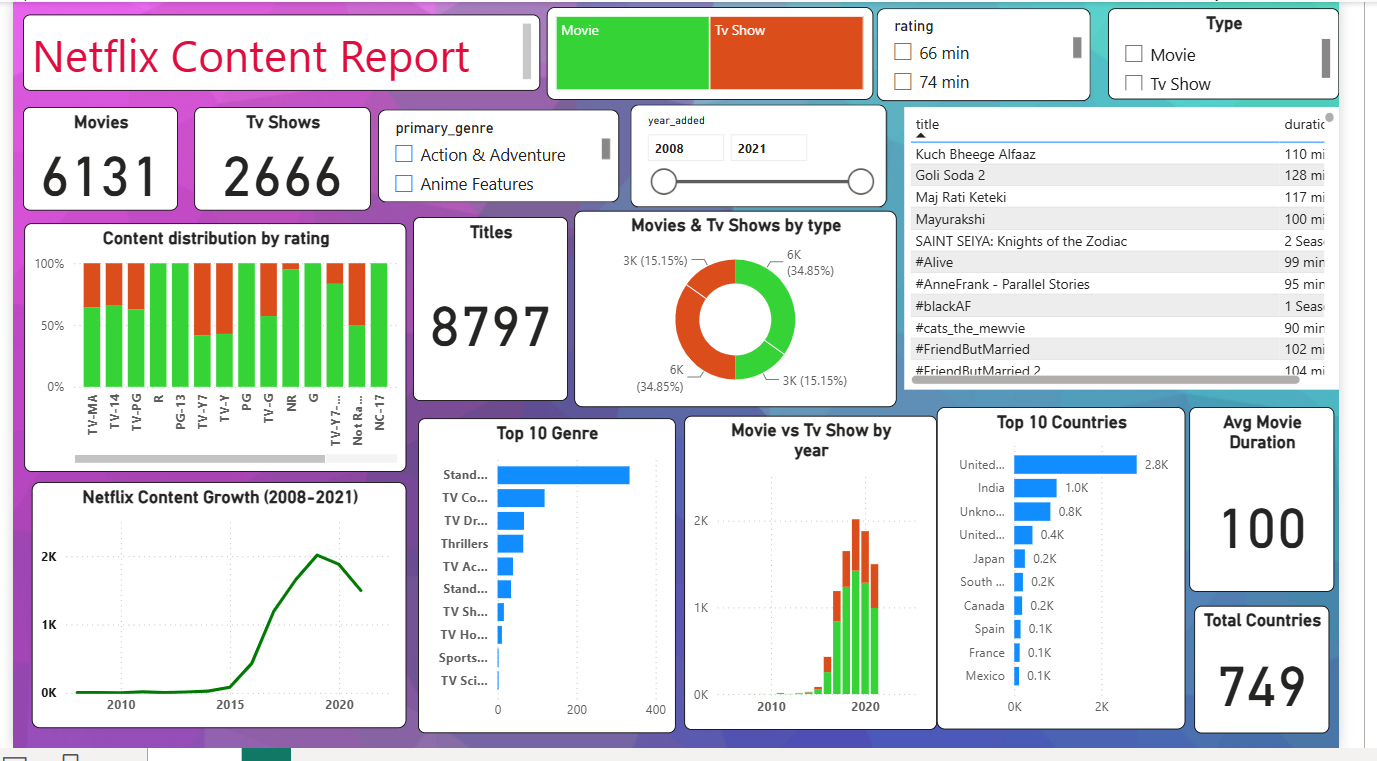

The dashboard page shown, as its layout file describes it:
{"tool":"powerbi","page":{"name":"Page 1","canvas":[1280,720],"ordinal":0},"visuals":[{"type":"card","title":"Countries","fields":{"Values":["public netflix_titles.Total Countries"]},"box":[579.1,116.6,170.2,149.6],"z":0},{"type":"textbox","box":[35.7,12.3,480.3,72.7],"z":1000},{"type":"card","title":"Movies","fields":{"Values":["public netflix_titles.Total Movies"]},"box":[17.8,101.5,170,150],"z":2000},{"type":"card","title":"Tv Shows","fields":{"Values":["public netflix_titles.Total Tv Shows"]},"box":[389.7,101.5,170.2,149.6],"z":3000},{"type":"card","title":"Titles","fields":{"Values":["public netflix_titles.Total Titles"]},"box":[199,101.5,170.2,149.6],"z":4000},{"type":"card","fields":{"Values":["Count(public netflix_titles.director)"]},"box":[18,332,170,150],"z":5000},{"type":"donutChart","fields":{"Category":["public netflix_titles.type"],"Y":["public netflix_titles.Total Movies","public netflix_titles.Total Tv Shows"]},"box":[237.4,315.6,322.5,204.5],"z":6000},{"type":"tableEx","fields":{"Values":["public netflix_titles.title","public netflix_titles.duration","public netflix_titles.cast_members"]},"box":[579.1,315.6,570.8,354],"z":7000},{"type":"slicer","fields":{"Values":["public netflix_titles.rating"]},"box":[674.4,9.7,382.4,107.4],"z":8000},{"type":"slicer","fields":{"Values":["public netflix_titles.year_added"]},"box":[1003.8,26.5,276.3,149.6],"z":9000},{"type":"slicer","title":"Type","fields":{"Values":["public netflix_titles.type"]},"box":[797.5,133.9,206.3,102.5],"z":10000}]}

Visuals, with their boxes on the page's 1280x720 design canvas (x1, y1, x2, y2). These are canvas units, not pixel positions in the 1377x761 screenshot, which may show the page scaled, cropped or inside an application window:
"Countries" card: (579, 117, 749, 266)
textbox: (36, 12, 516, 85)
"Movies" card: (18, 102, 188, 252)
"Tv Shows" card: (390, 102, 560, 251)
"Titles" card: (199, 102, 369, 251)
card - Count(public netflix_titles.director): (18, 332, 188, 482)
donutChart - public netflix_titles.type x public netflix_titles.Total Movies: (237, 316, 560, 520)
tableEx - public netflix_titles.title x public netflix_titles.duration: (579, 316, 1150, 670)
slicer - public netflix_titles.rating: (674, 10, 1057, 117)
slicer - public netflix_titles.year_added: (1004, 26, 1280, 176)
"Type" slicer: (798, 134, 1004, 236)
